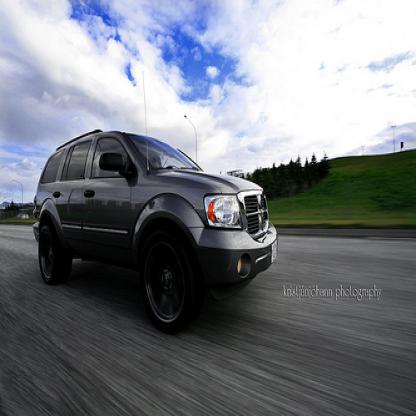Vehicle: (35, 132, 279, 331)
